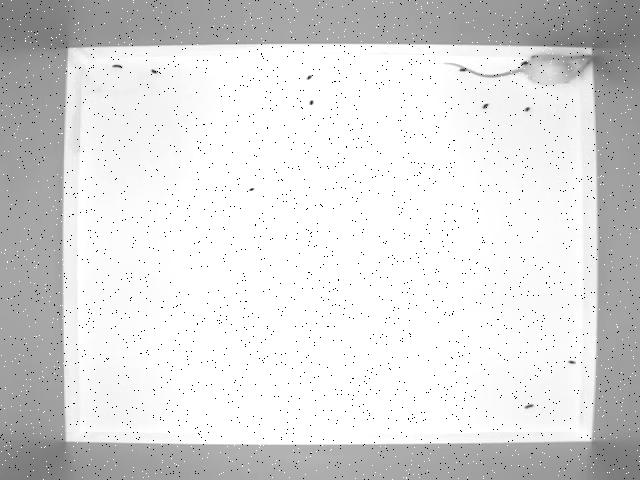Tikus: (448, 51, 612, 85)
